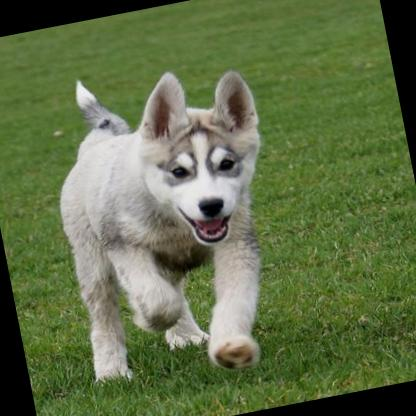Siberian_husky: (36, 48, 303, 396)
